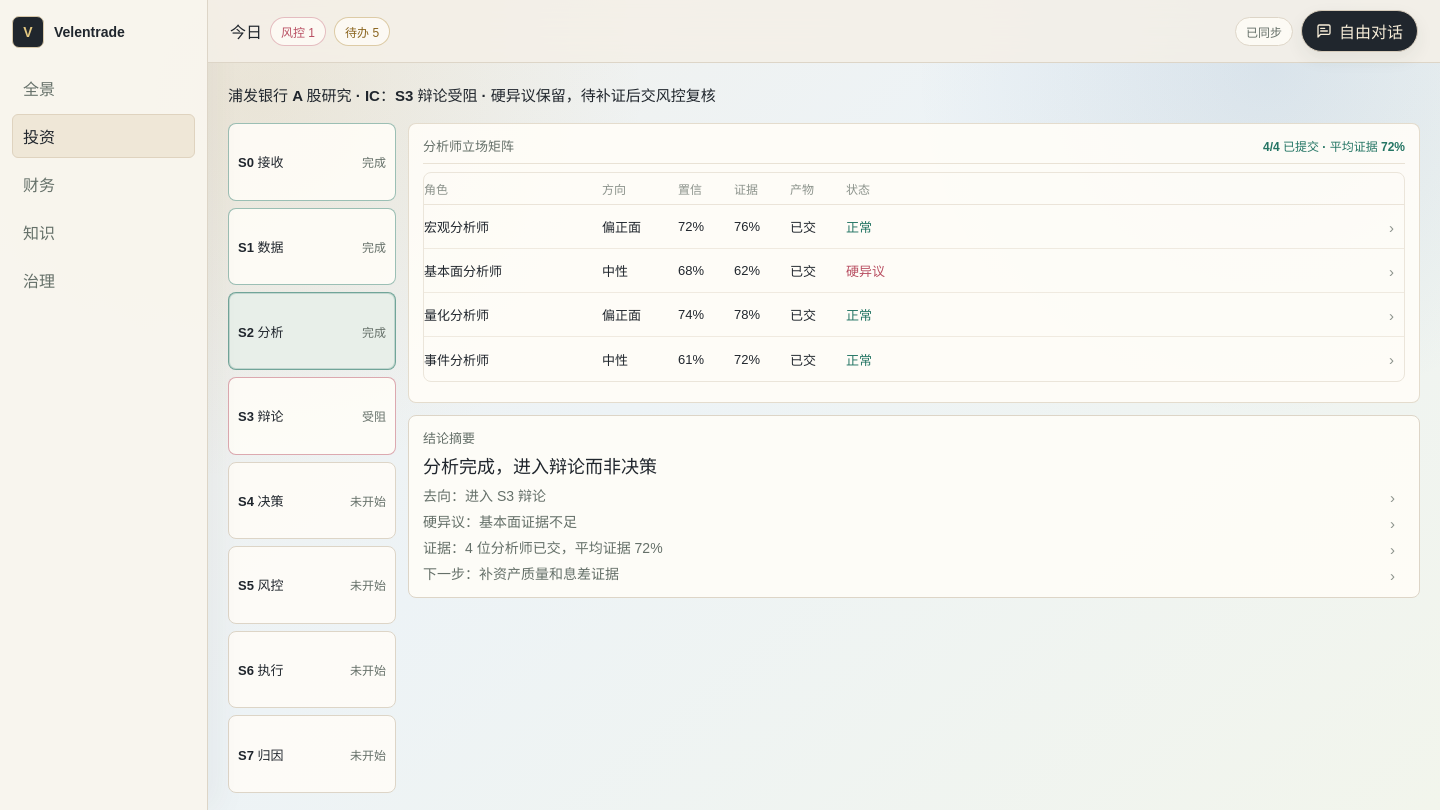
WI-004 workbench interactions › folds S2 hard dissent and stage judgment into one conclusion summary with item details
Expected: the element with class "analyst-matrix-header" shows "角色", [424,183,448,197]
Expected: the element with class "analyst-matrix-header" shows "方向", [602,183,626,197]
Step 1. Click the button "硬异议：基本面证据不足" → (500,522), box [423,514,577,530]
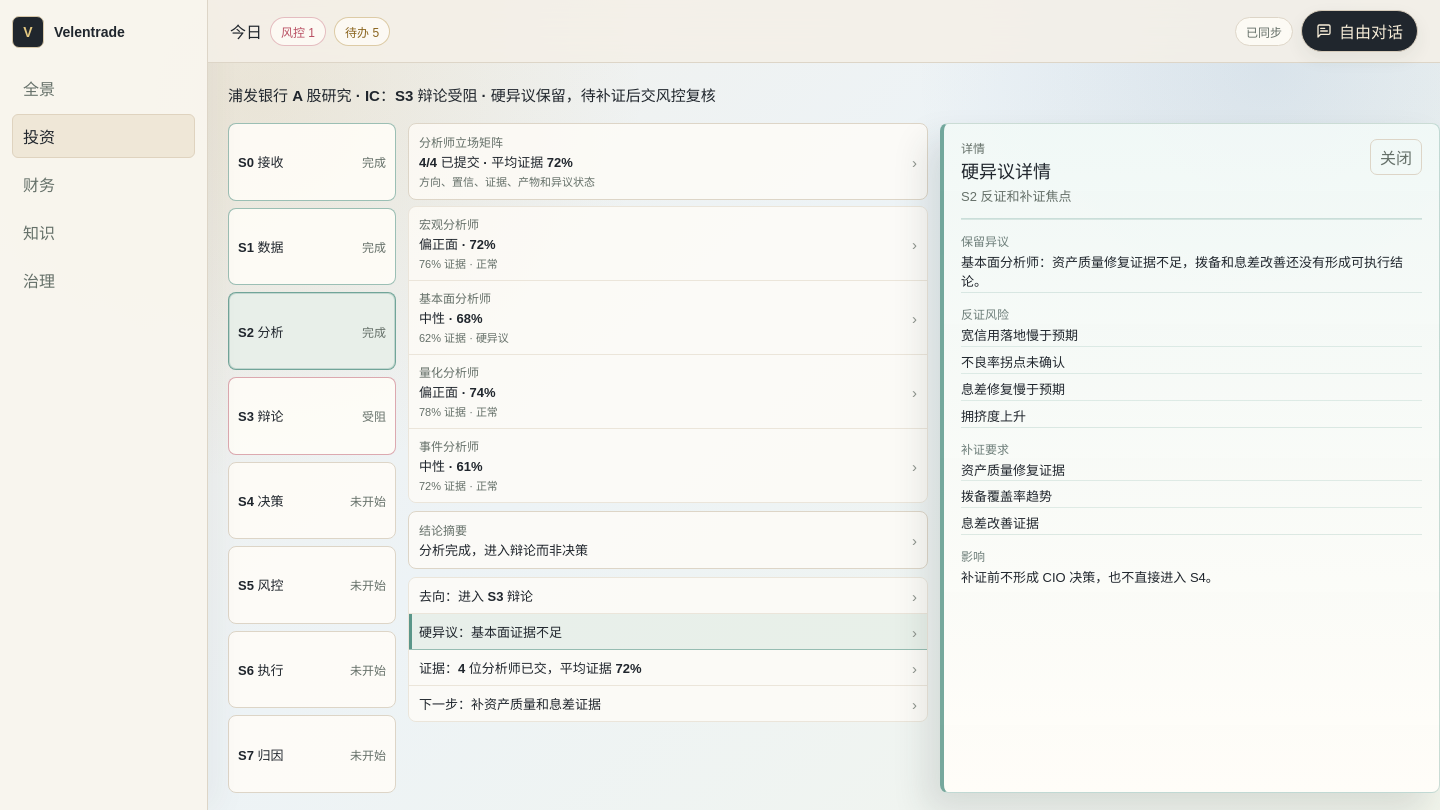
Result: the element with class "dossier-detail-drawer" shows "硬异议详情" at [961,162,1051,182]
Result: the element with class "dossier-detail-drawer" shows "资产质量修复证据不足" at [961,255,1403,289]
Result: the element with class "dossier-detail-drawer" shows "补证要求" at [961,442,1009,456]
